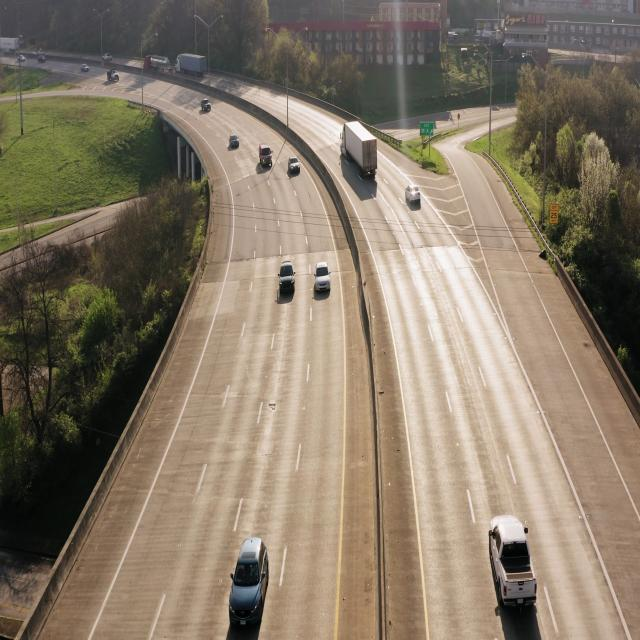Car: (486, 511, 540, 614), (226, 529, 271, 633), (338, 116, 380, 184), (312, 257, 332, 300), (277, 259, 296, 303), (404, 182, 422, 210)
